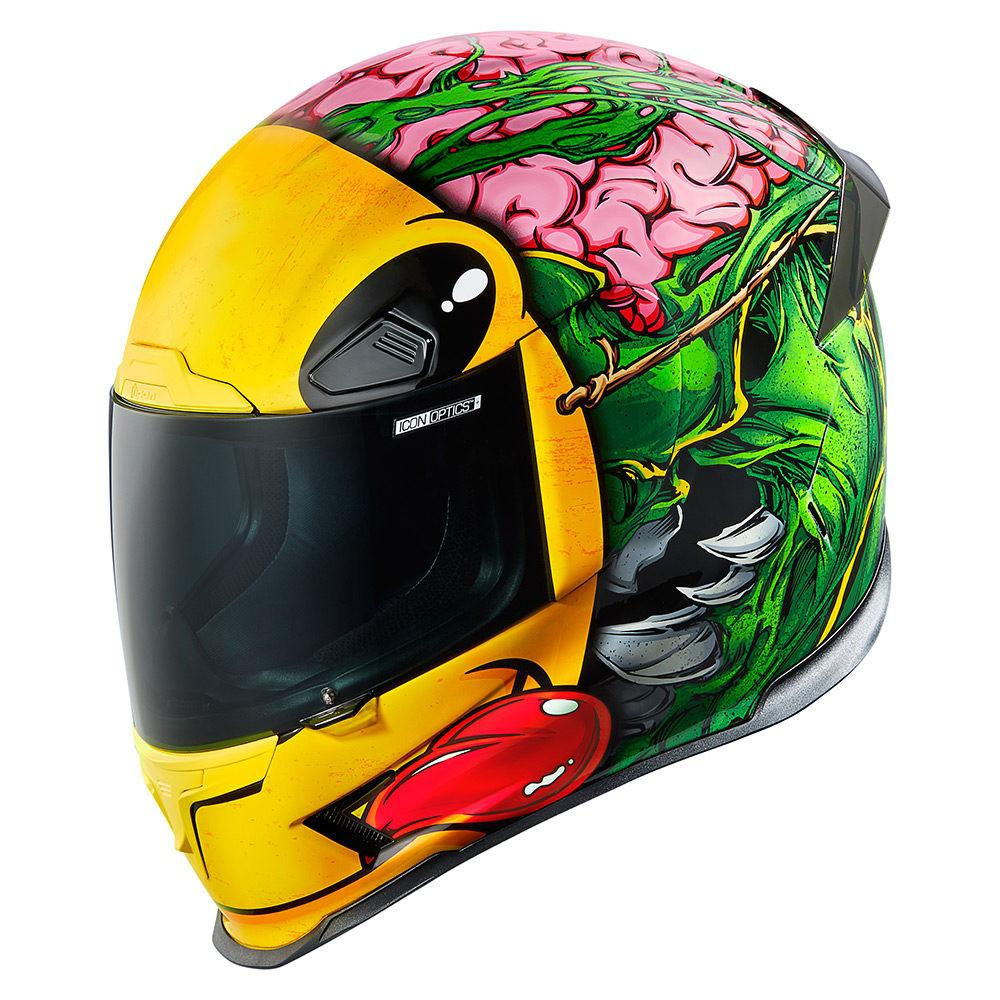with_helmet: (88, 10, 930, 974)
